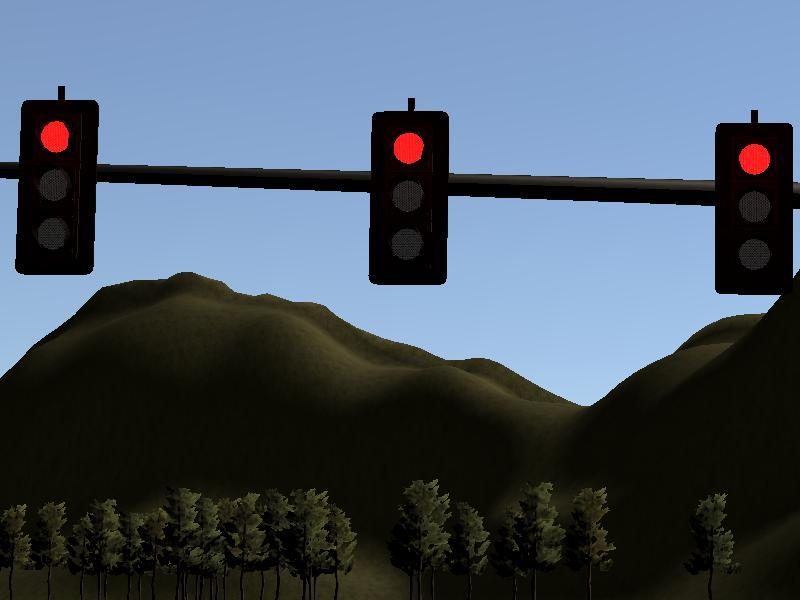Red: (716, 126, 793, 293), (371, 116, 446, 281), (22, 101, 92, 270)
